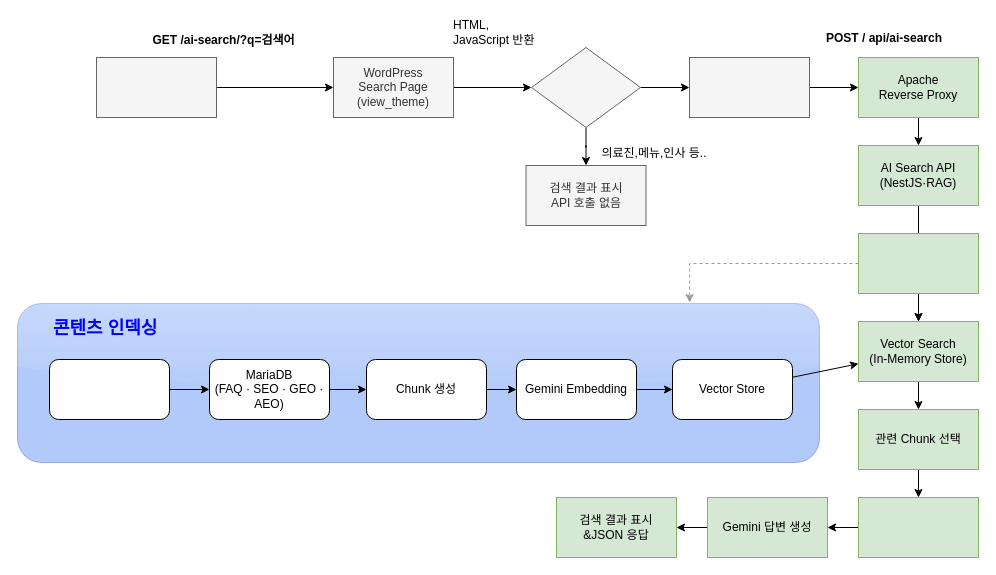
The diagram is 996 pixels wide and 575 high, and some of its shapes have lost their labels. Here are the shapes that lost their labels. From the top down, the centre of each, then its label:
At [156,87]: "VIEW 브라우저".
At [585,87]: "검색의도분류 (Browser JavaScript)".
At [749,87]: "일반 질문".
At [918,263]: "질문 임베딩 (Gemini API)".
At [109,389]: "WordPress CMS".
At [918,527]: "Prompt 생성 (RAG Context)".
